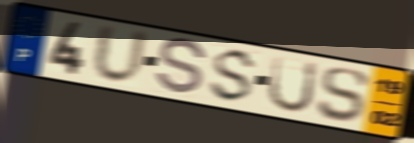4: (46, 20, 86, 77)
S: (152, 37, 209, 97), (315, 66, 371, 123), (206, 48, 261, 105)
U: (90, 21, 151, 87), (265, 53, 321, 114)
